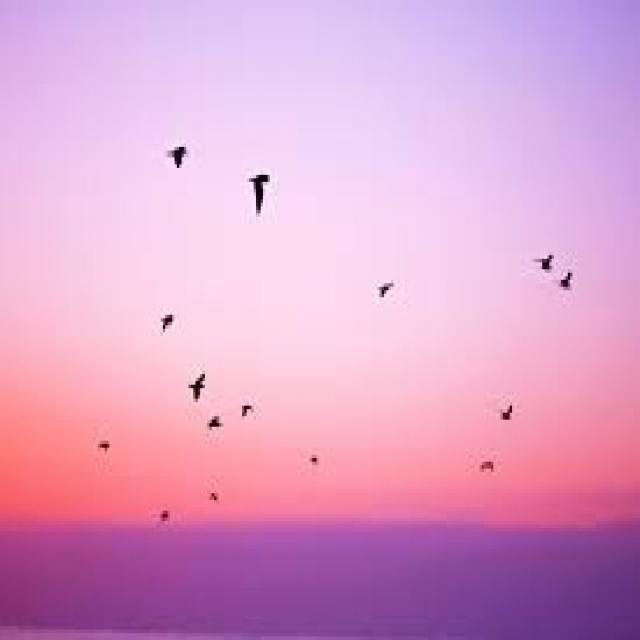bird: (352, 264, 426, 332), (234, 160, 284, 232), (162, 354, 220, 416), (498, 228, 562, 281), (464, 433, 510, 495), (478, 385, 530, 438), (149, 286, 201, 338), (556, 263, 594, 313), (164, 138, 197, 184), (240, 392, 262, 432)
